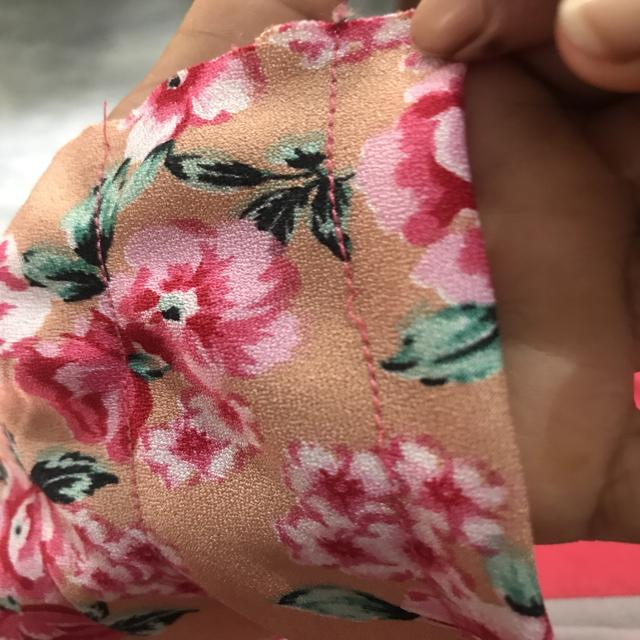skip: (330, 281, 376, 342)
